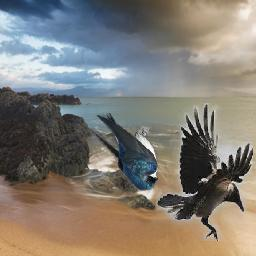Crow: (157, 103, 254, 241)
Swallow: (88, 113, 159, 191)
